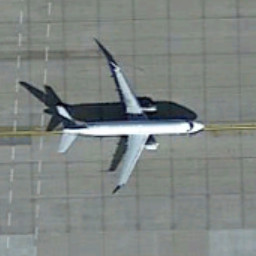Airplane: (51, 53, 215, 205)
